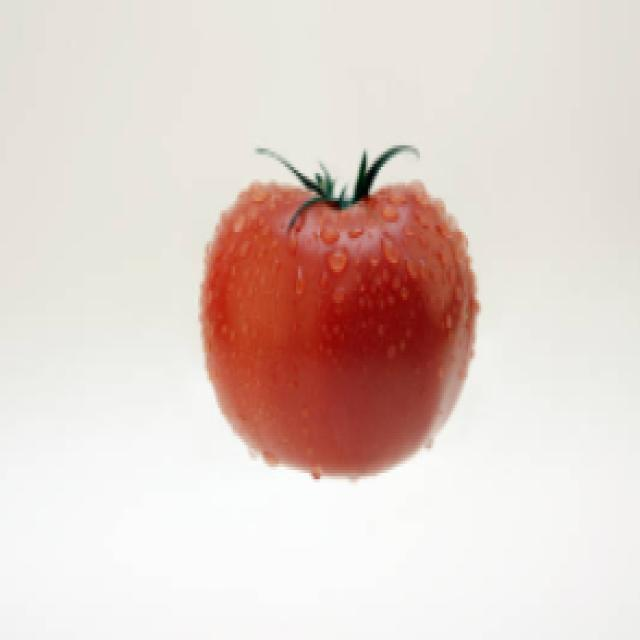Tomato: (190, 130, 487, 486)
